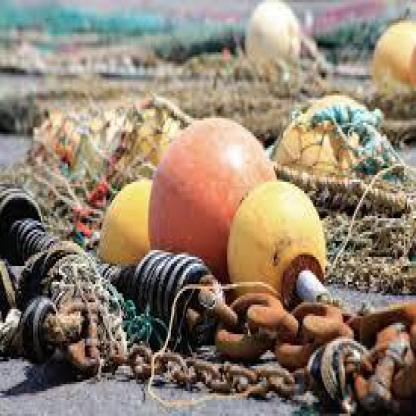Metal: (0, 247, 415, 415)
